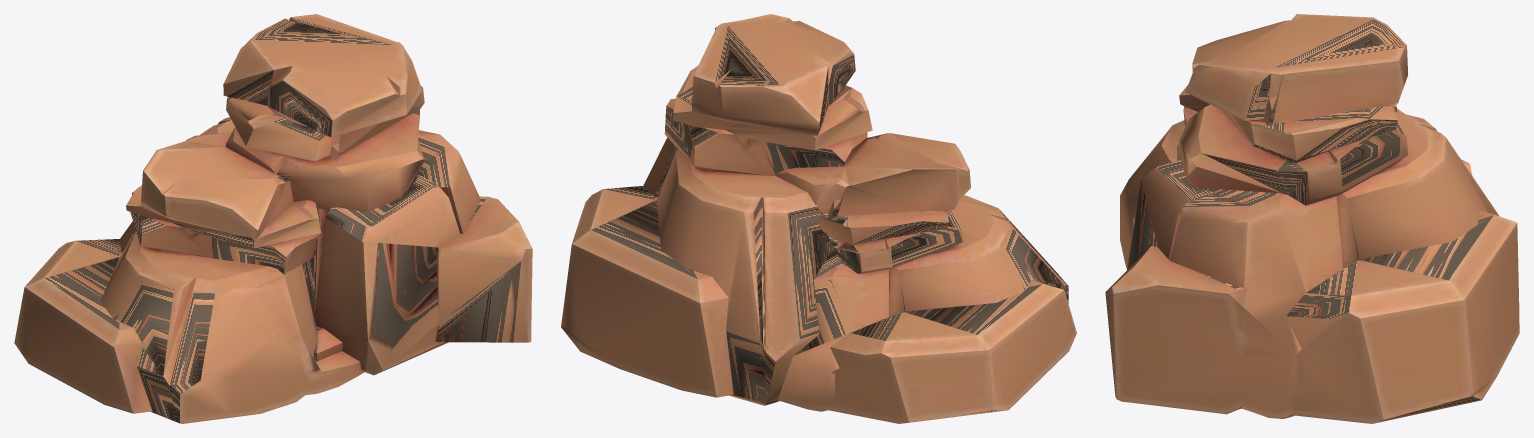
Rendered from desert-rock-01.glb.
3 views of the same model, side by side, from view 1: azimuth 30°, elevation 25°; view 2: azimuth 150°, elevation 25°; view 3: azimuth 270°, elevation 25° (orthographic). The views are drawn at different scales.
Visible parts, largest first — view 1: Rock_3; view 2: Rock_3; view 3: Rock_3.
Part boxes in pixels (x1,y1,x2,y2): Rock_3: (14,14,532,423); Rock_3: (561,14,1076,423); Rock_3: (1105,14,1519,423).
Size of the model in its own units: 4.53 by 2.8 by 3.37.
Materials: 1 (1 with a texture image).
